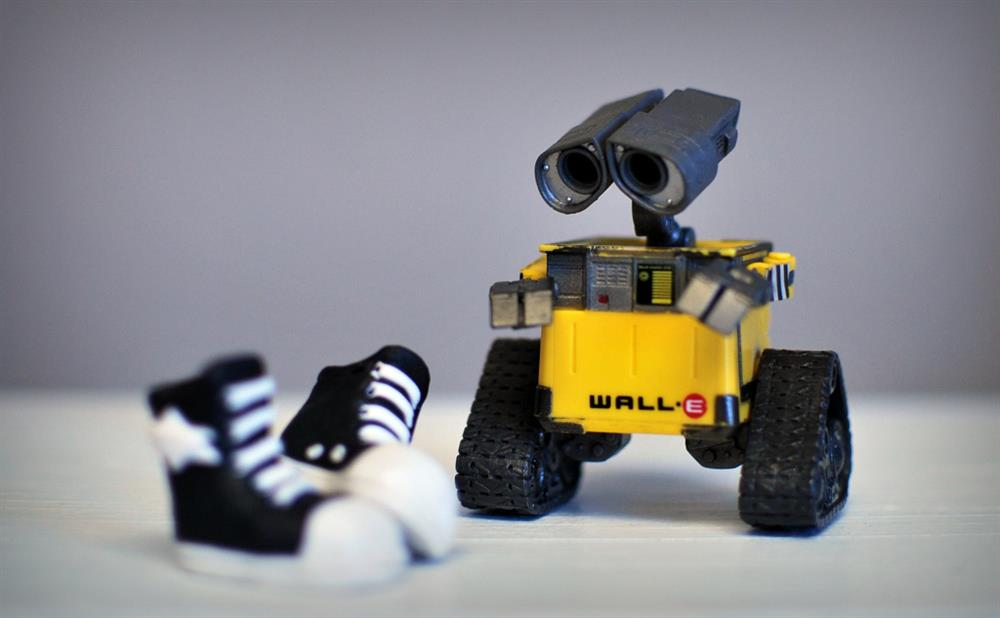walle: (452, 82, 853, 536)
